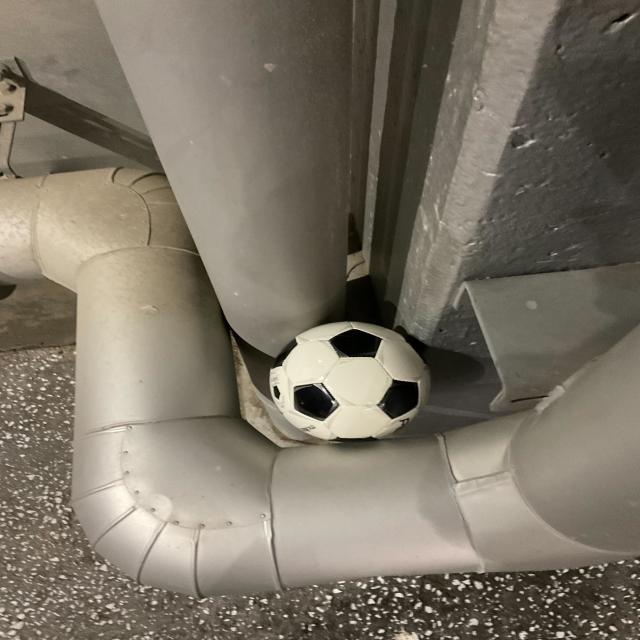ball: (272, 320, 430, 443)
